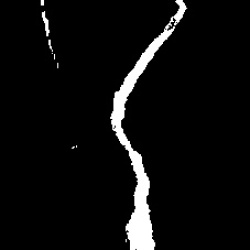crack: (112, 3, 190, 245), (40, 2, 60, 69)
pinhole: (69, 139, 87, 153)
